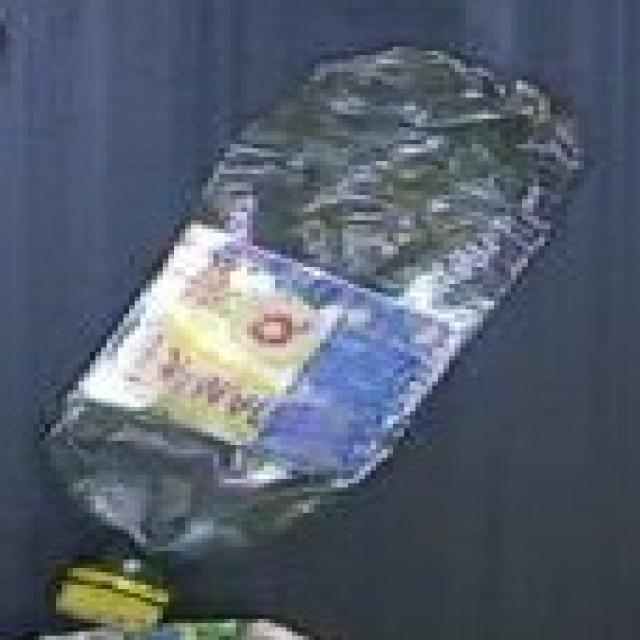plasticbottle: (39, 22, 603, 640)
